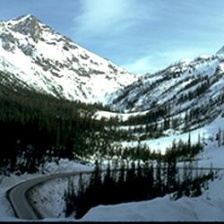neutral: (1, 2, 224, 221)
